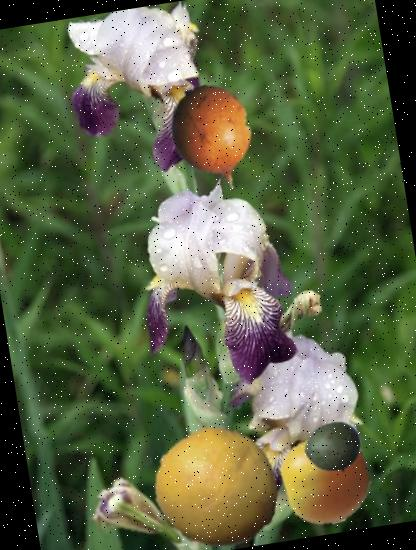Cherry: (276, 430, 378, 532)
Granadilla: (152, 76, 276, 200)
Grapefruit: (145, 415, 289, 550)
Mango: (300, 415, 366, 482)
